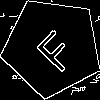F: (27, 22, 81, 75)
